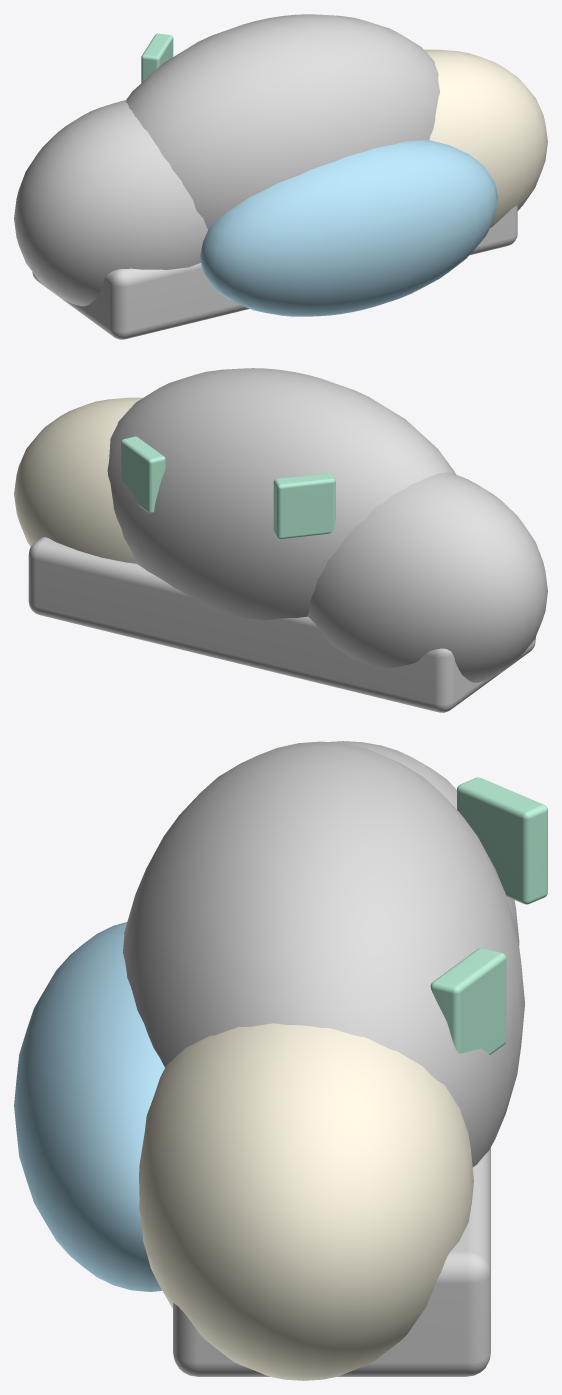
File: cloud_candy.glb
The picture shows the model from 3 angles, top to bottom: view 1: azimuth 30°, elevation 25°; view 2: azimuth 150°, elevation 25°; view 3: azimuth 270°, elevation 25°; orthographic projection. The views are drawn at different scales.
Visible parts, largest first — view 1: CandyCloudPuffCenter, CandyCloudPuffBack, CandyCloudPuffLeft, CandyCloudPuffRight, CandyCloudSoftBase, MintSpark; view 2: CandyCloudPuffCenter, CandyCloudPuffLeft, CandyCloudSoftBase, CandyCloudPuffRight, MintSpark, MintSparkSmall; view 3: CandyCloudPuffCenter, CandyCloudPuffRight, CandyCloudPuffBack, CandyCloudSoftBase, MintSpark, MintSparkSmall, CandyCloudPuffLeft.
Part boxes in pixels (x1,y1,x2,y2): CandyCloudPuffCenter: (126, 14, 439, 229); CandyCloudPuffBack: (200, 139, 497, 316); CandyCloudPuffLeft: (14, 100, 207, 306); CandyCloudPuffRight: (424, 49, 547, 227); CandyCloudSoftBase: (32, 205, 517, 339); MintSpark: (141, 33, 173, 82); CandyCloudPuffCenter: (107, 368, 455, 620); CandyCloudPuffLeft: (308, 472, 547, 682); CandyCloudSoftBase: (28, 537, 535, 712); CandyCloudPuffRight: (14, 397, 142, 563); MintSpark: (273, 473, 335, 539); MintSparkSmall: (121, 436, 165, 513); CandyCloudPuffCenter: (123, 741, 524, 1167); CandyCloudPuffRight: (139, 1023, 473, 1380); CandyCloudPuffBack: (14, 922, 164, 1291); CandyCloudSoftBase: (173, 1147, 490, 1376); MintSpark: (457, 777, 547, 904); MintSparkSmall: (430, 948, 506, 1054); CandyCloudPuffLeft: (329, 741, 519, 945).
Bounding box in the file's own units: 1.81 × 0.87 × 0.9402.
